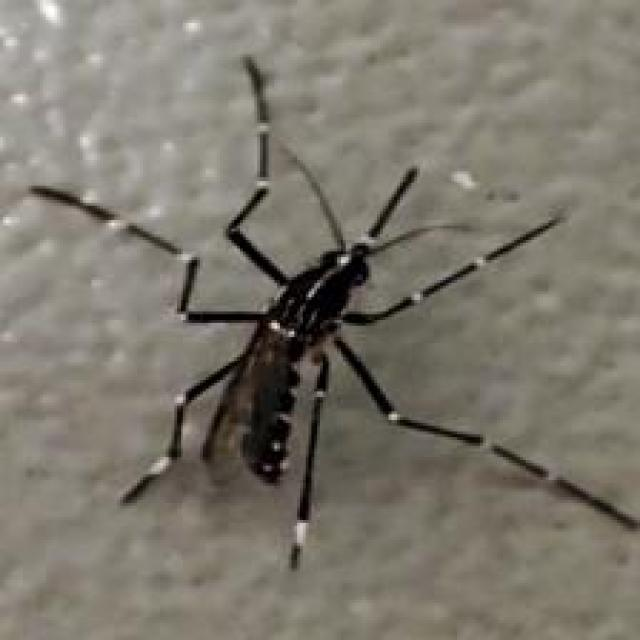Aedes albopictus: (28, 53, 640, 573)
